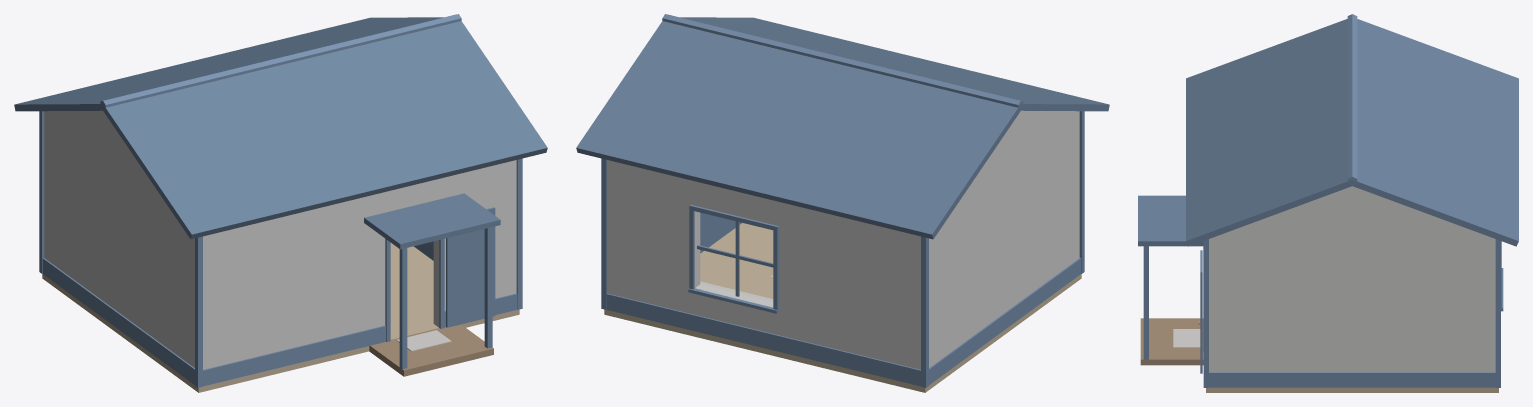
The model's file is set.glb.
The picture shows the model from 3 angles, left to right: view 1: azimuth 30°, elevation 25°; view 2: azimuth 150°, elevation 25°; view 3: azimuth 270°, elevation 25°; orthographic projection. The views are drawn at different scales.
Visible parts, largest first — view 1: casting-office; view 2: casting-office; view 3: casting-office.
Boxes of the visible parts, x1=… form: casting-office: x1=14, y1=14, x2=547, y2=392; casting-office: x1=576, y1=14, x2=1109, y2=392; casting-office: x1=1138, y1=14, x2=1518, y2=392.
Size of the model in its own units: 7.1 by 4.56 by 7.02.
